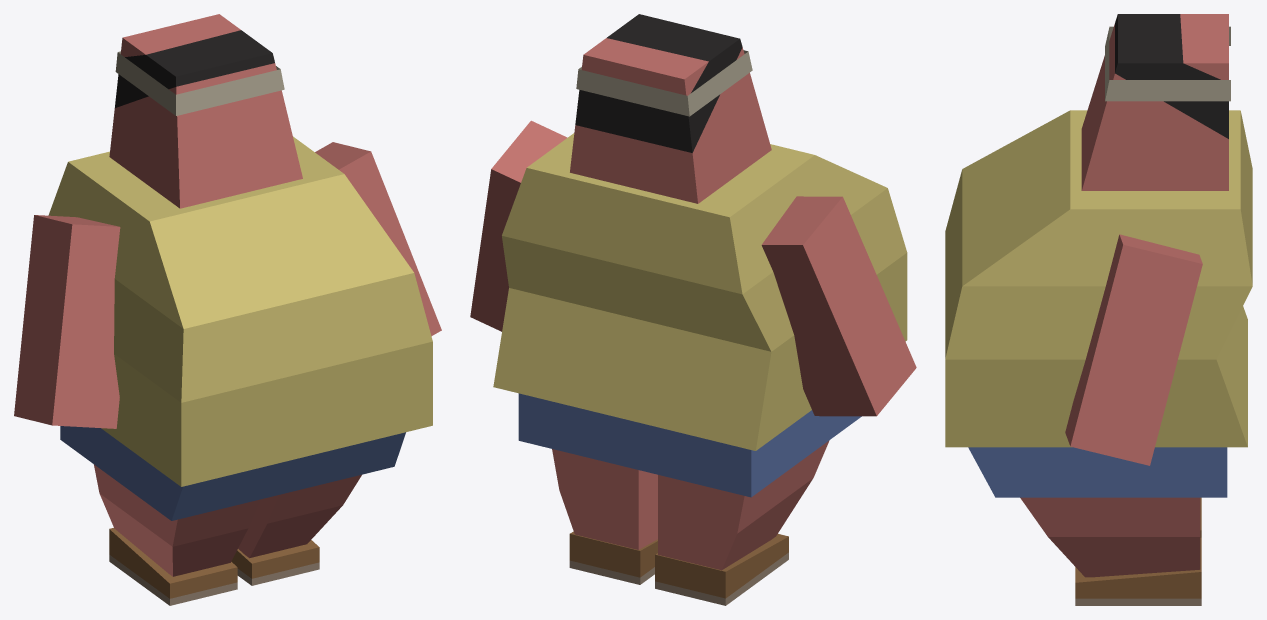
Rendered from fatman_02.fbx.
3 views of the same model, side by side, from view 1: azimuth 30°, elevation 25°; view 2: azimuth 150°, elevation 25°; view 3: azimuth 270°, elevation 25° (orthographic). The views are drawn at different scales.
Parts seen in each view (by area): view 1: fatman_02; view 2: fatman_02; view 3: fatman_02.
Part boxes in pixels (box(x1,y1,x2,y2)): fatman_02: box(14, 14, 441, 605); fatman_02: box(470, 14, 916, 605); fatman_02: box(945, 14, 1252, 605).
Bounding box in the file's own units: 235 × 293 × 154.
